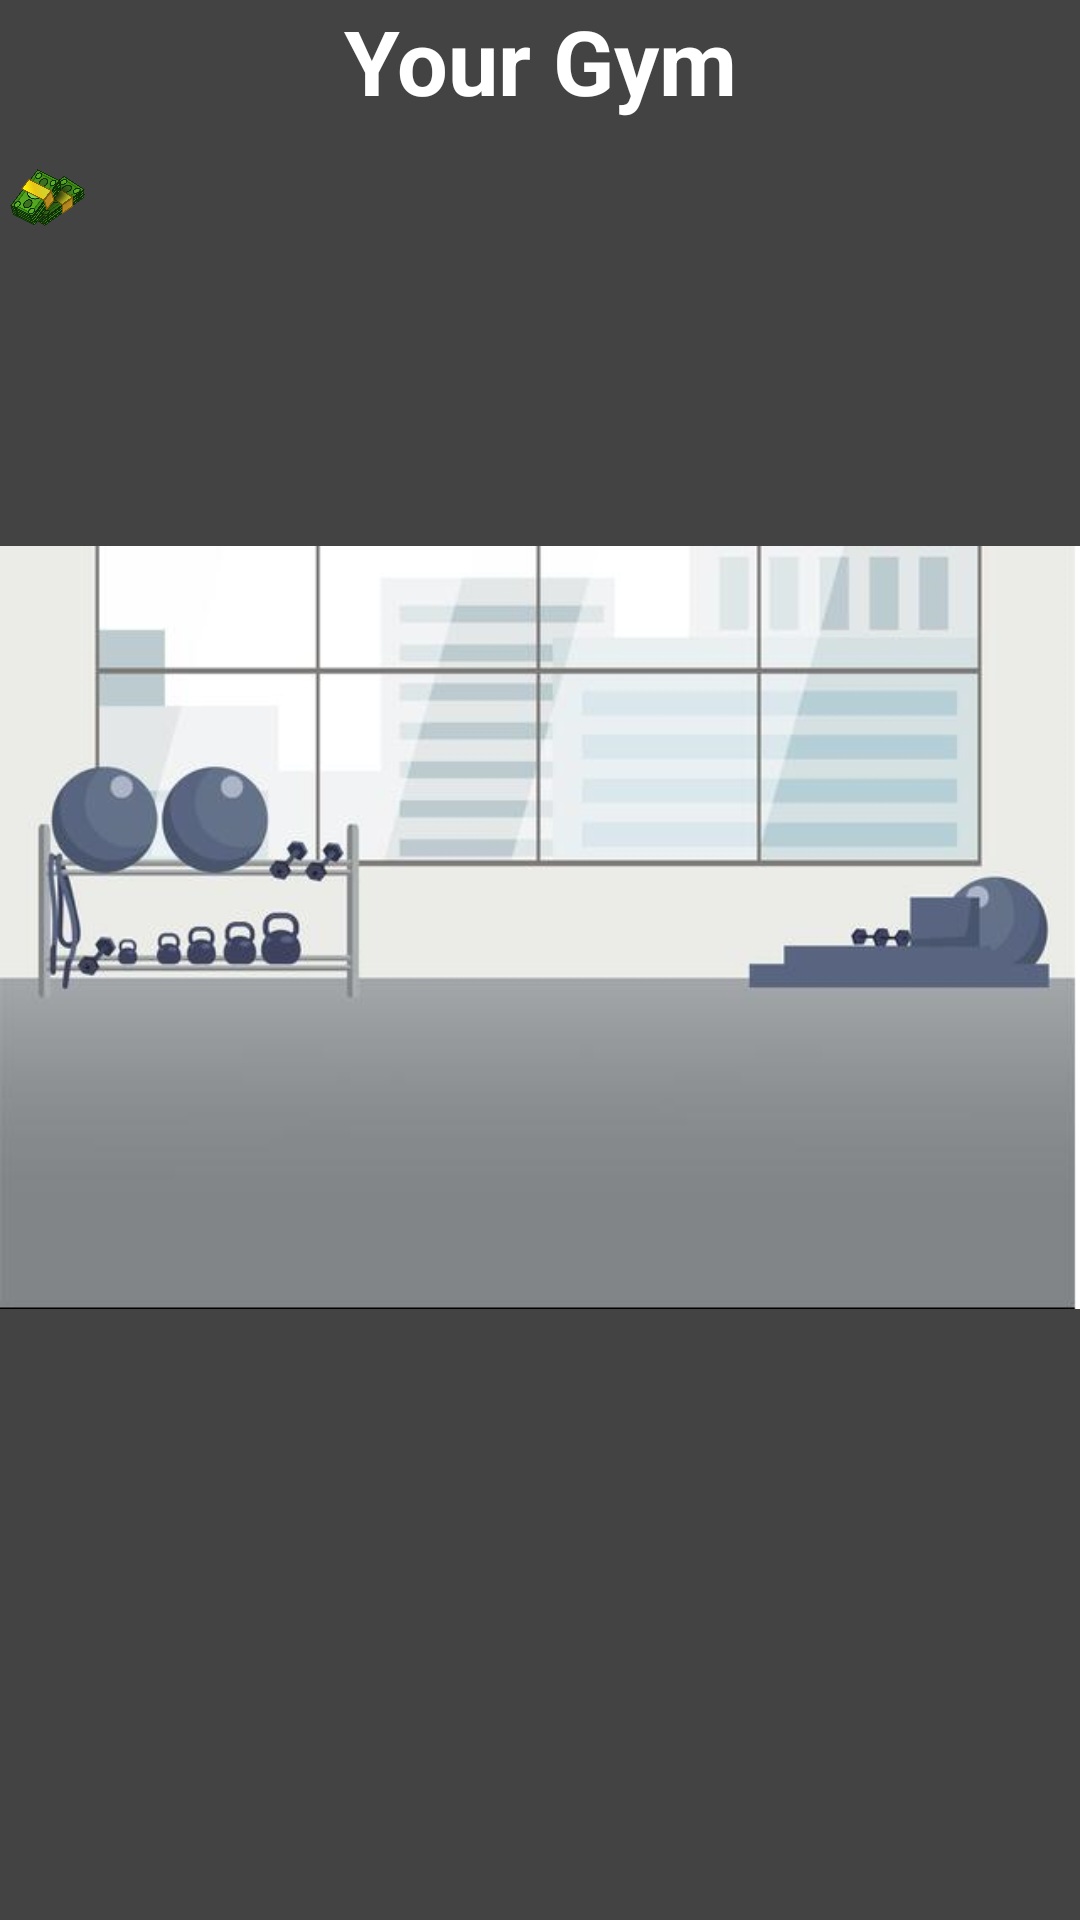

Icons on this 1080px×1920px Android screen, each with its box as [x1=x1, y1=y1, x2=x2, y2=y2]:
cash: [x1=10, y1=169, x2=85, y2=226]
